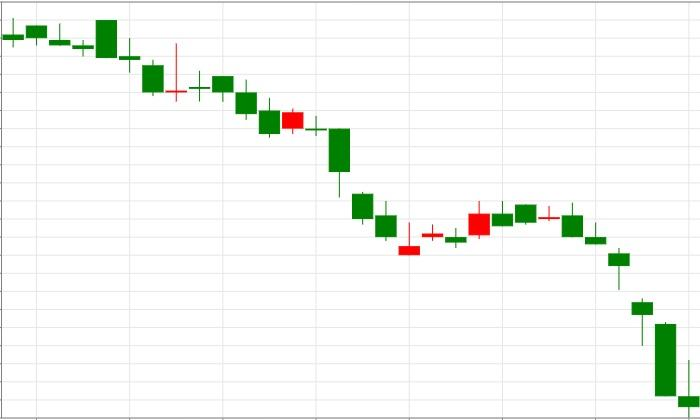three_black_crows_fall: (445, 199, 631, 291)
